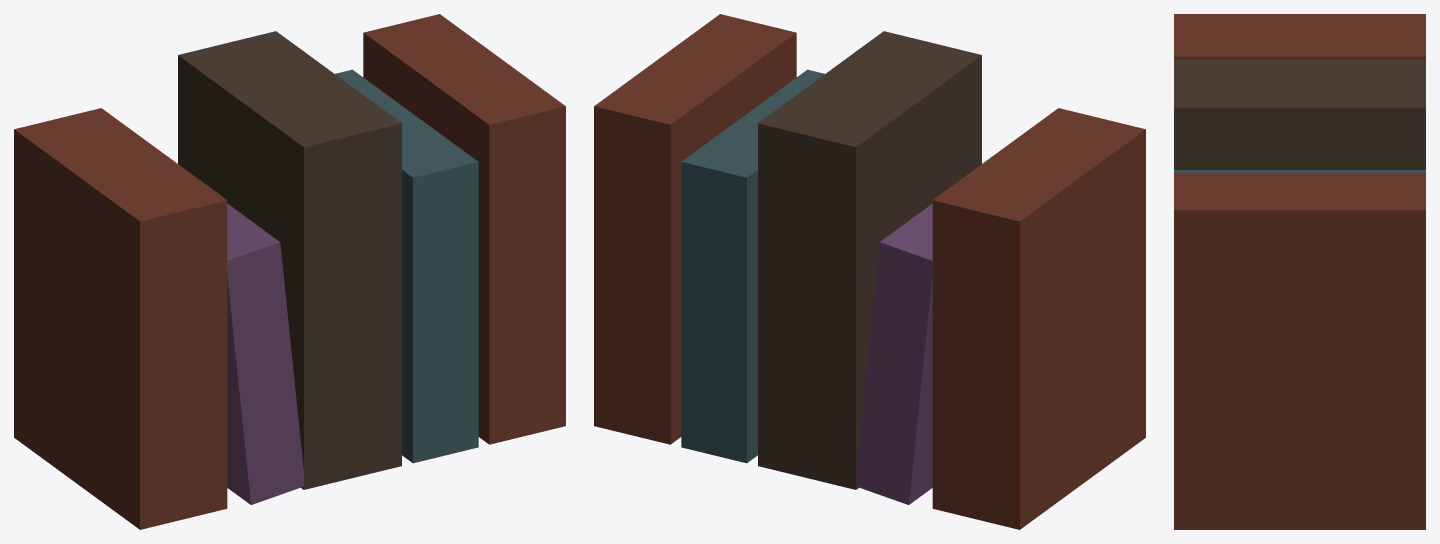
File: SM_PRP_LivrosSoltos.fbx
3 renders of one model, left to right at view 1: azimuth 30°, elevation 25°; view 2: azimuth 150°, elevation 25°; view 3: azimuth 270°, elevation 25°, orthographic.
Visible parts, largest first — view 1: SM_PRP_LivrosSoltos; view 2: SM_PRP_LivrosSoltos; view 3: SM_PRP_LivrosSoltos.
Part boxes in pixels (x1=…): SM_PRP_LivrosSoltos: x1=14, y1=14, x2=565, y2=529; SM_PRP_LivrosSoltos: x1=594, y1=14, x2=1145, y2=529; SM_PRP_LivrosSoltos: x1=1174, y1=14, x2=1425, y2=529.
Bounding box in the file's own units: 0.39 × 0.302 × 0.2.
